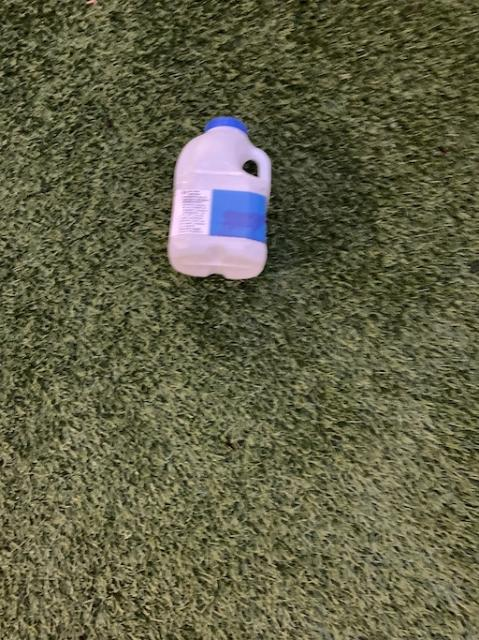plastic: (167, 116, 270, 277)
